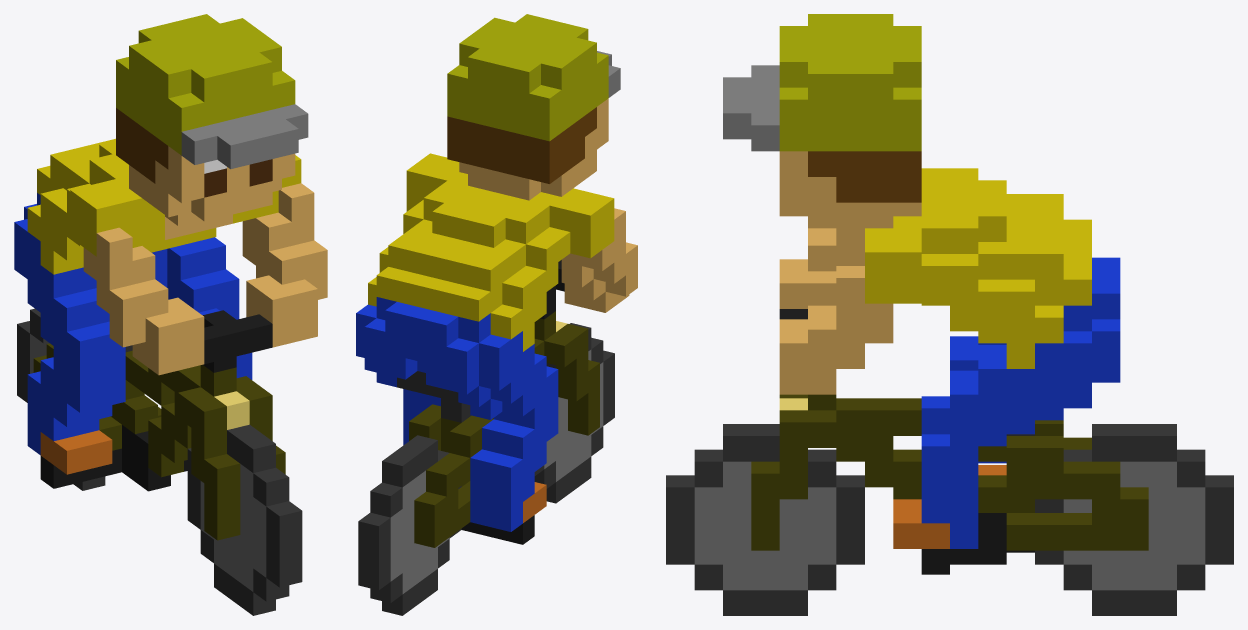
The model's file is animation.obj.
3 renders of one model, left to right at view 1: azimuth 30°, elevation 25°; view 2: azimuth 150°, elevation 25°; view 3: azimuth 270°, elevation 25°, orthographic. The views are drawn at different scales.
Size of the model in its own units: 9 by 22 by 20.
Materials: 1 (1 with a texture image).
